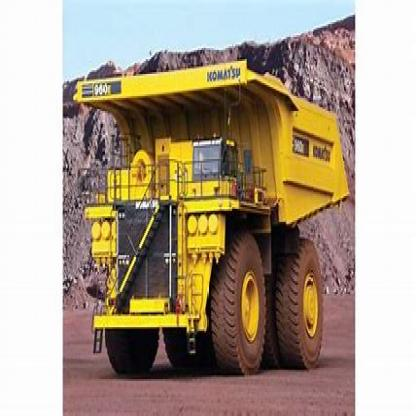dump_truck: (68, 59, 348, 377)
